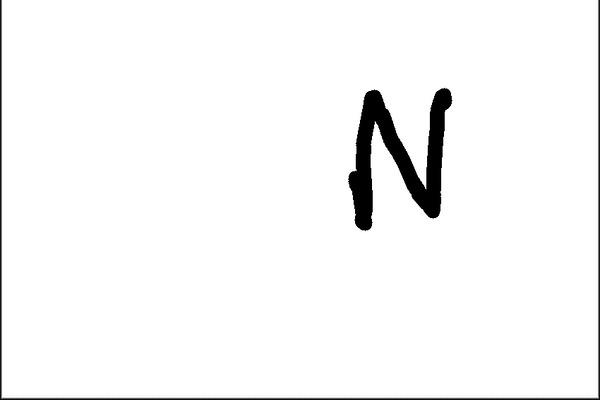N: (339, 80, 458, 235)
